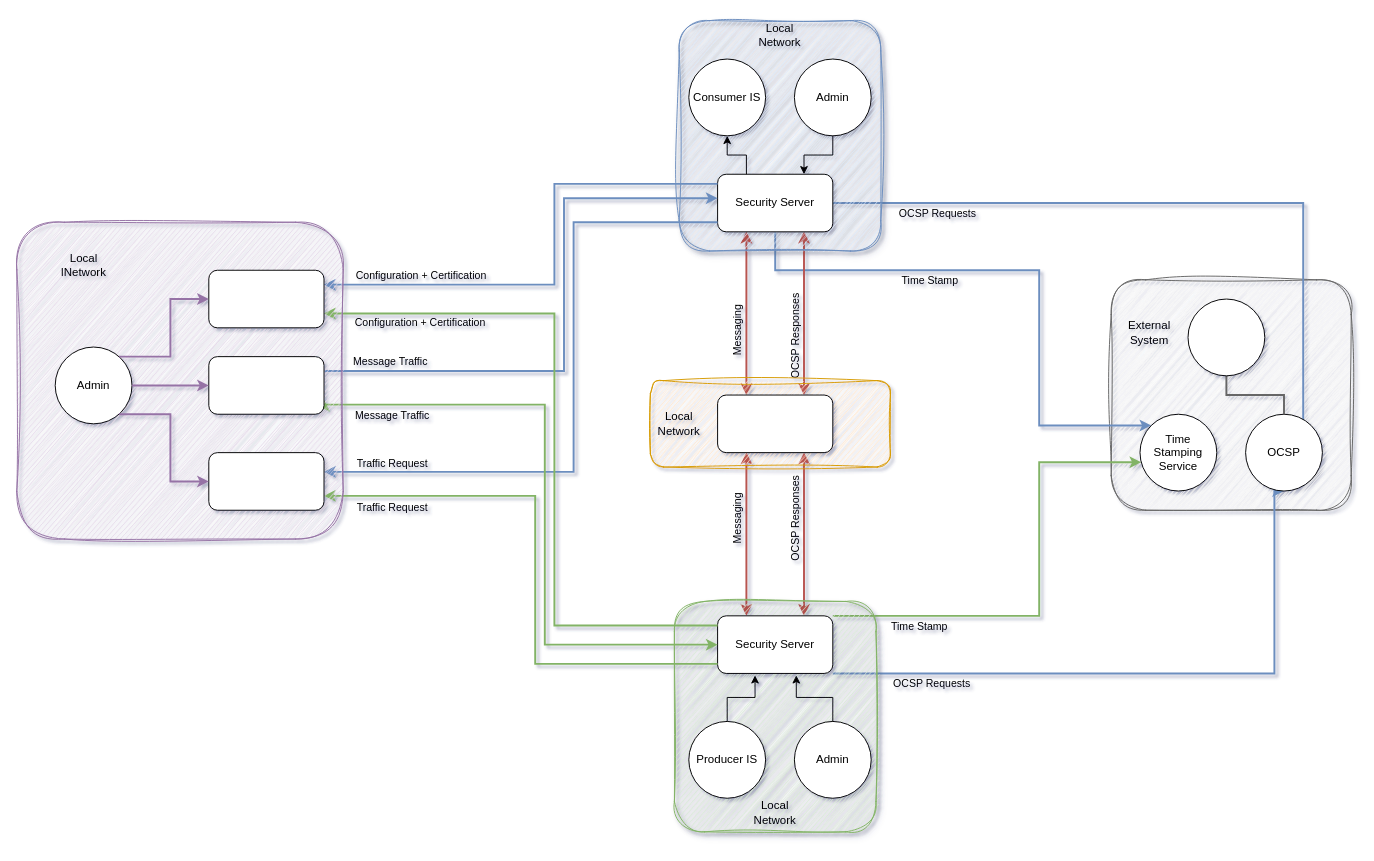
This 1374x861 diagram has some shape labels left out. Here are the shapes that lost their labels. From the top down, the centre of each, then its label:
At pixel 266 298: "Central Server".
At pixel 1226 337: "Certification Authority".
At pixel 266 385: "Monitoring".
At pixel 775 423: "Security Server Exchange".
At pixel 266 481: "Security Server Management".
